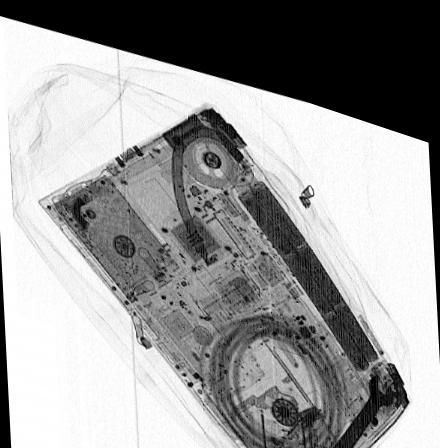Wrench: (304, 349, 397, 448)
